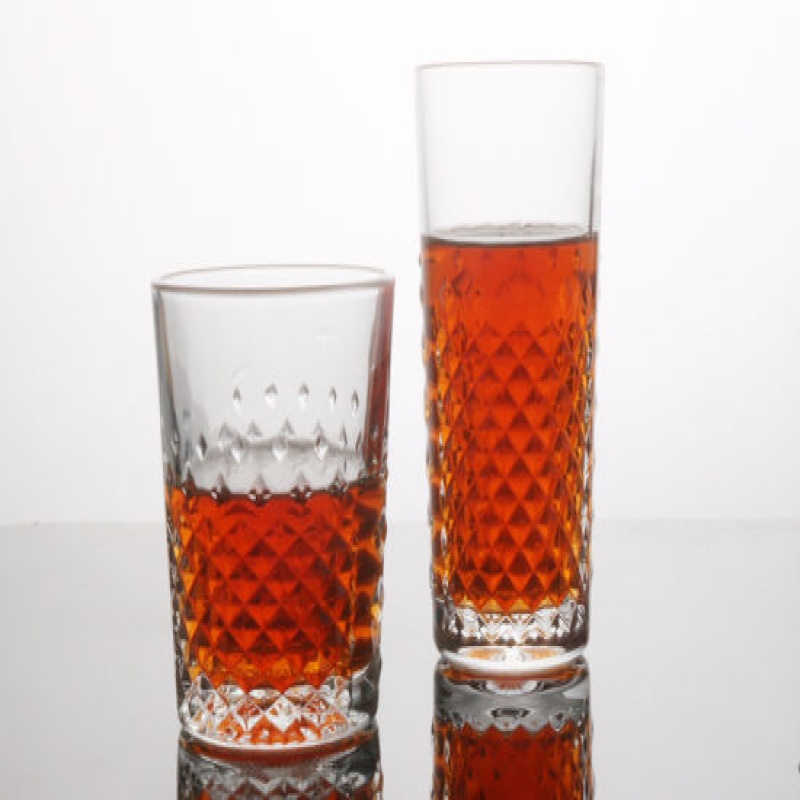whiskey: (153, 264, 392, 748), (434, 58, 620, 658)
